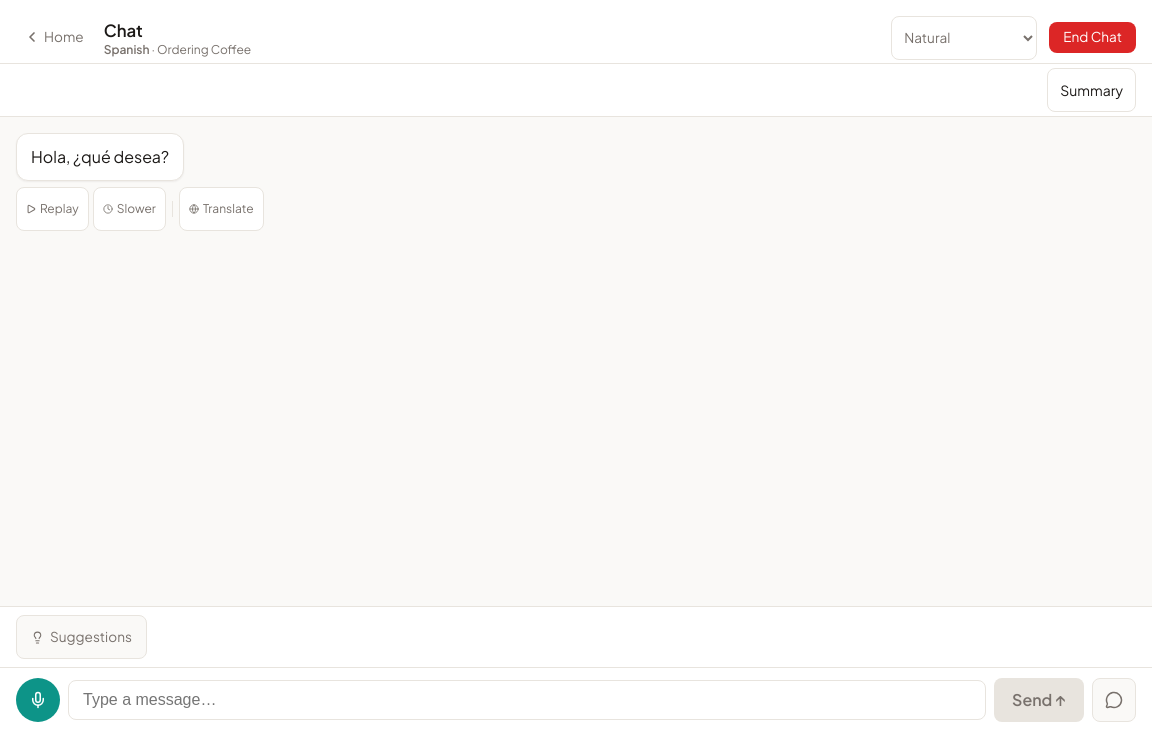
Test case: Chat — completing an ordinary reply (FR-021) › finalizes the reply bubble and voices it
The image size is (1152, 732).
Type "un cafe por favor" into the field labelled "Type a message" at (527, 700), box [68, 680, 986, 720]
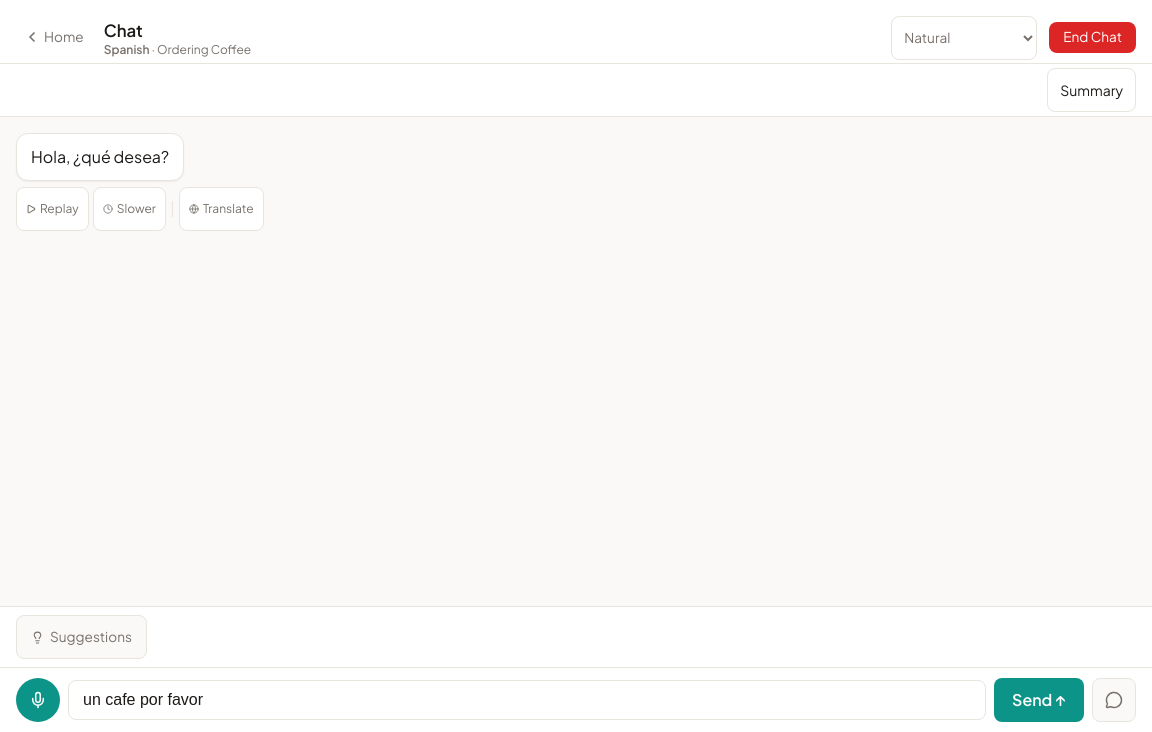
Click the button with aria-label "Send message" at (1039, 700), box [994, 678, 1084, 722]
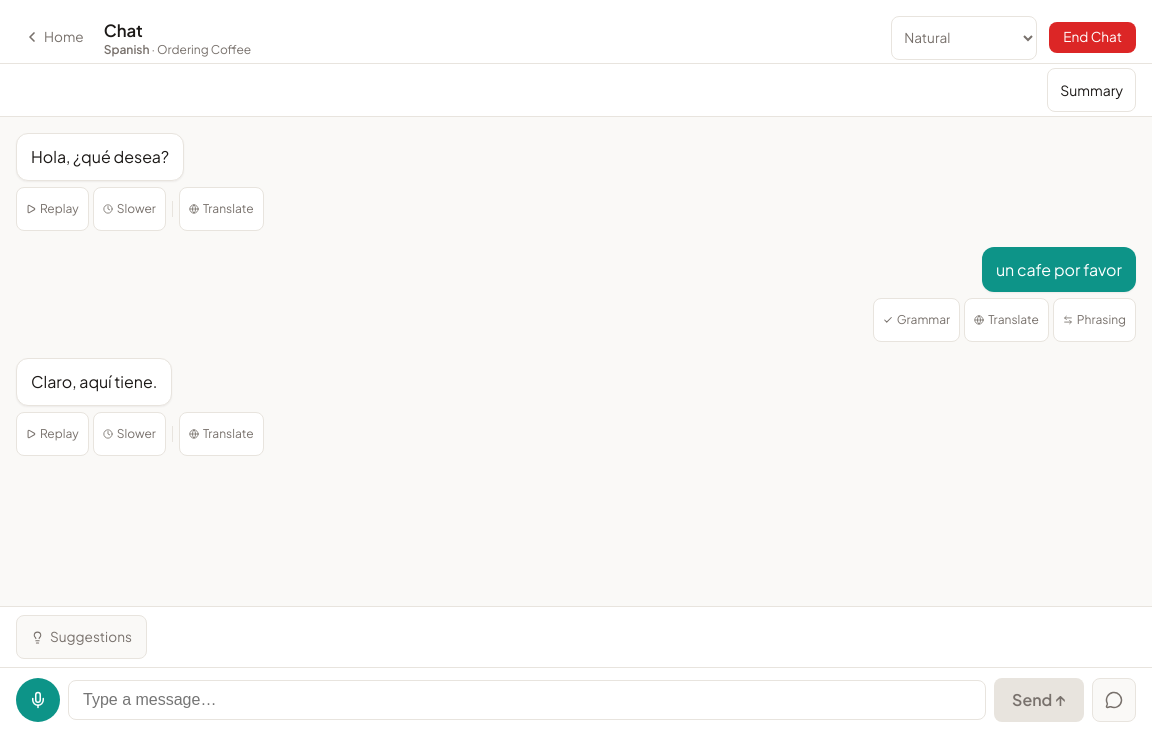
Now the text "Claro, aquí tiene." is shown, box [31, 371, 157, 392]
